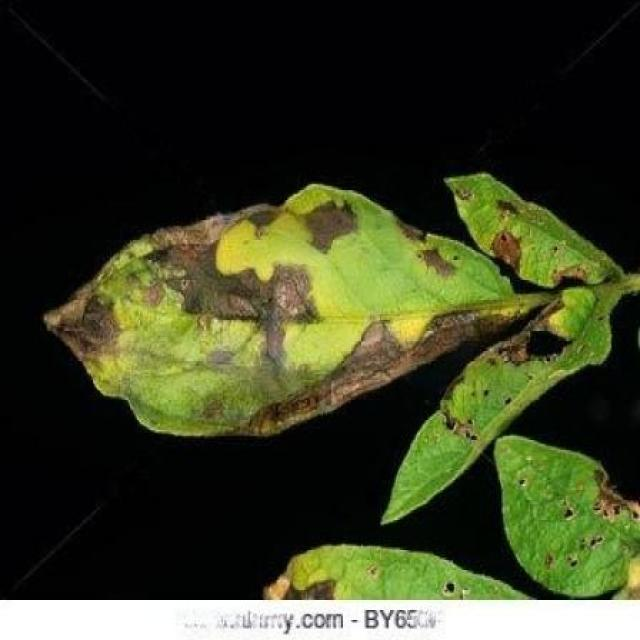Early Blight: (41, 181, 514, 440)
